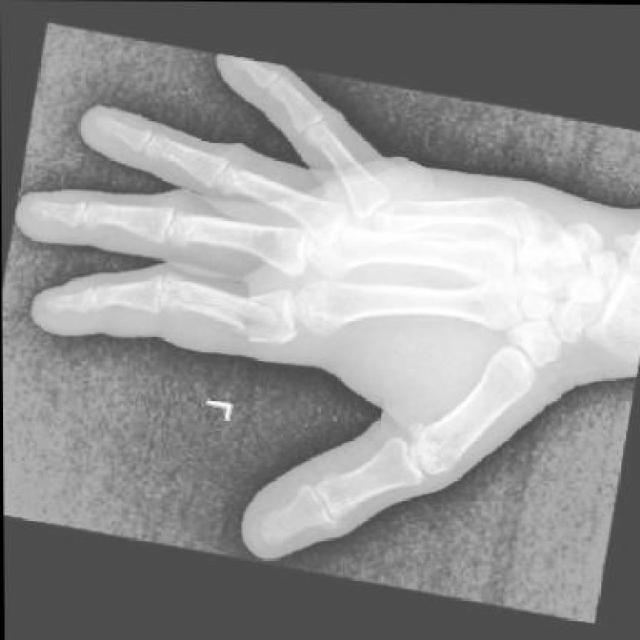Fracture: (228, 286, 290, 347)
